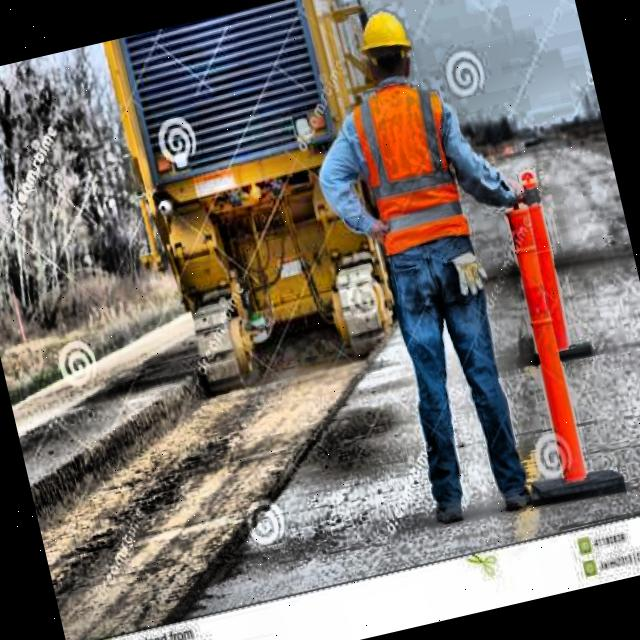helmet: (346, 0, 421, 91)
